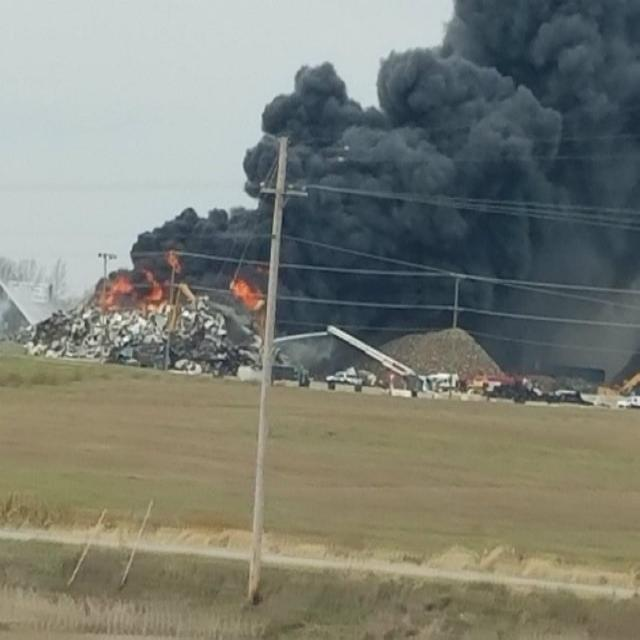Fire: (97, 255, 266, 316)
Smoke: (448, 0, 640, 375), (296, 48, 447, 332), (134, 204, 294, 248), (248, 95, 294, 197)
